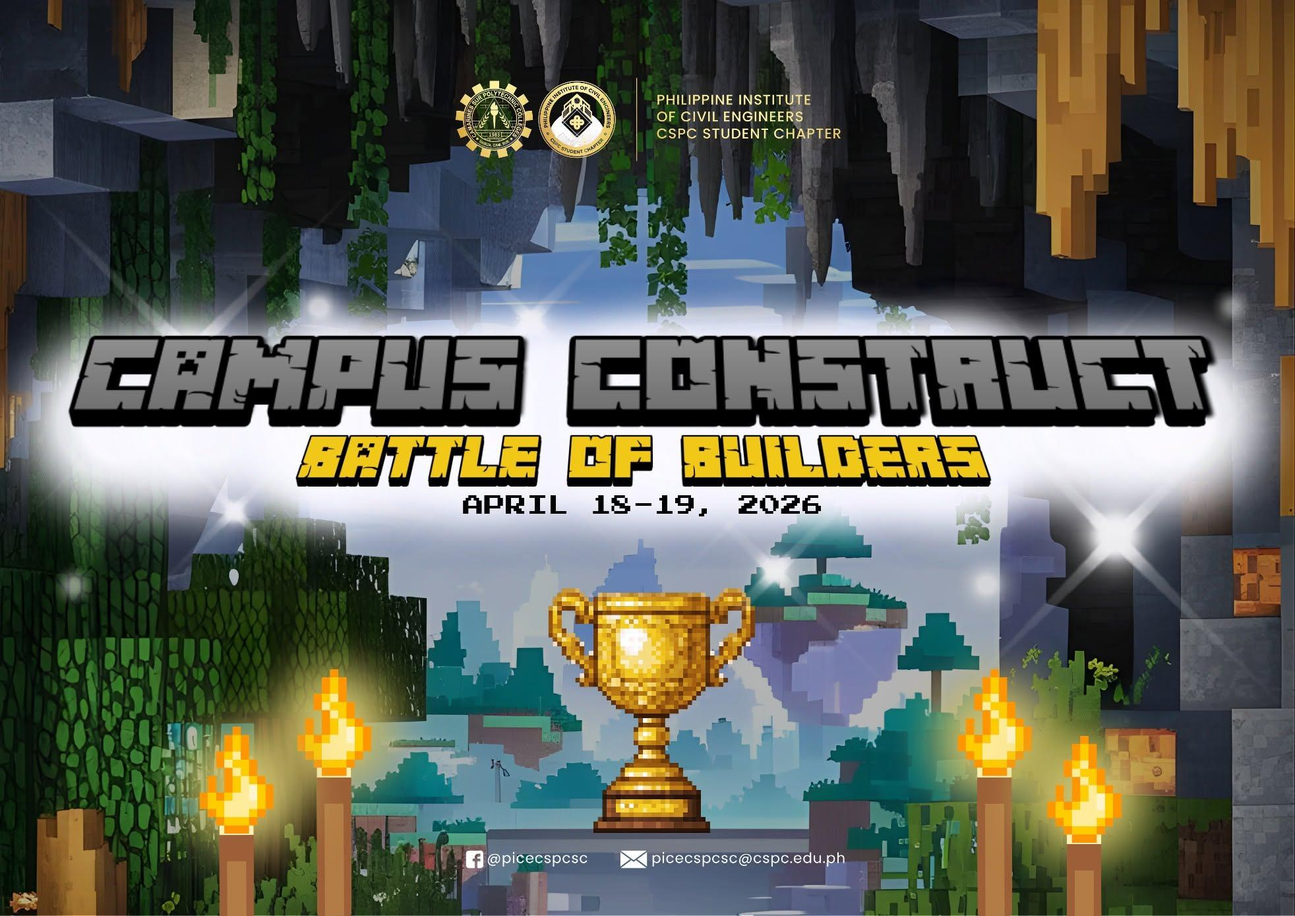embellishment: (541, 583, 760, 832), (1043, 462, 1200, 630), (949, 666, 1040, 915), (293, 667, 379, 915), (1039, 730, 1131, 915), (197, 719, 277, 915), (201, 475, 271, 549), (749, 542, 811, 603), (618, 847, 650, 873), (463, 847, 487, 871)
logo: (447, 73, 538, 163), (538, 72, 623, 163)
text: (67, 331, 1222, 431), (290, 435, 991, 488), (457, 490, 825, 522), (648, 88, 847, 144), (649, 849, 850, 868), (485, 851, 590, 868)
underlay: (35, 341, 1249, 526)
